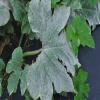Squash Powdery mildew leaf: (5, 0, 77, 99)
